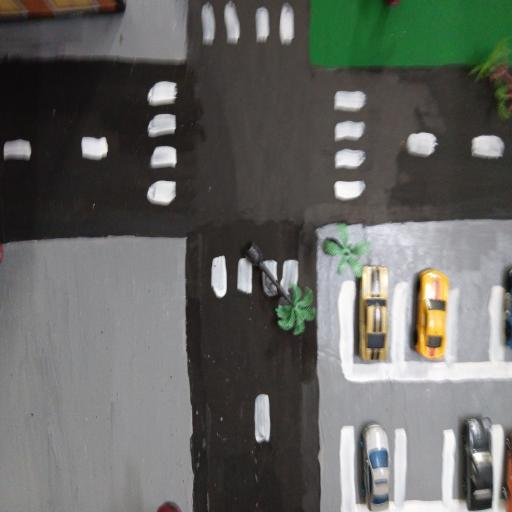fallen trees: (237, 235, 317, 344), (470, 42, 512, 118)
